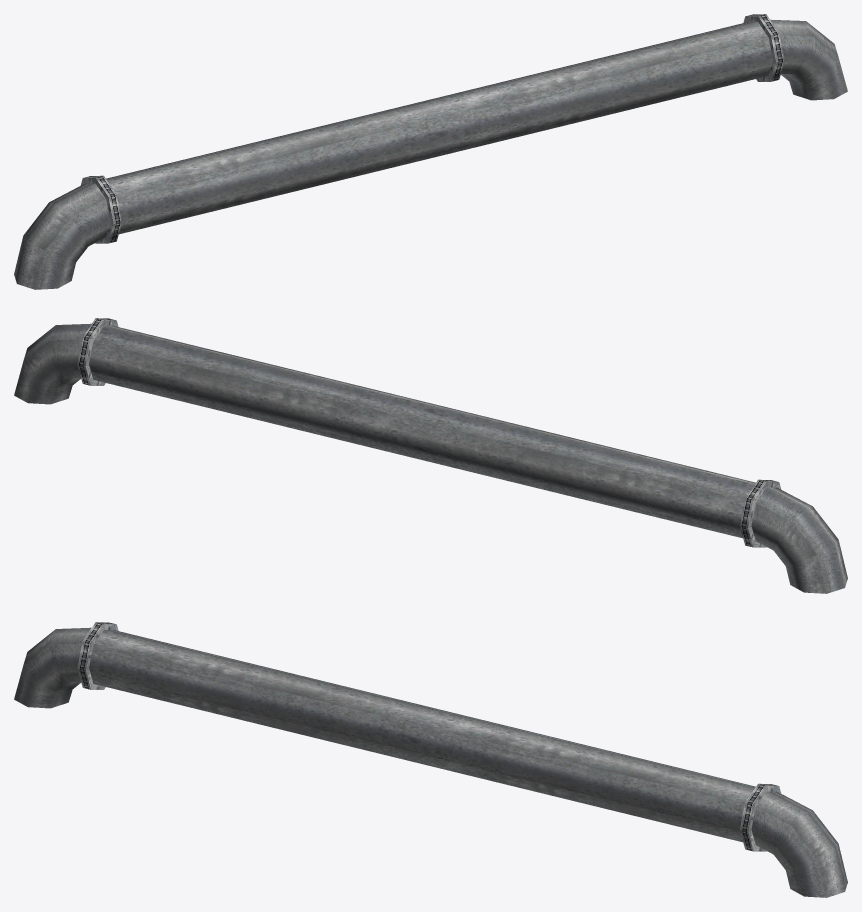
File: curved_ends_grey_4m.fbx
The picture shows the model from 3 angles, top to bottom: view 1: azimuth 30°, elevation 25°; view 2: azimuth 150°, elevation 25°; view 3: azimuth 330°, elevation 25°; orthographic projection.
Parts seen in each view (by area): view 1: mesh_0; view 2: mesh_0; view 3: mesh_0.
Boxes of the visible parts, x1,y1,x2,y2 form: mesh_0: (14, 14, 847, 289); mesh_0: (14, 318, 847, 593); mesh_0: (14, 622, 847, 897).
Size of the model in its own units: 400 by 40.17 by 30.47.
Materials: 1 (1 with a texture image).
